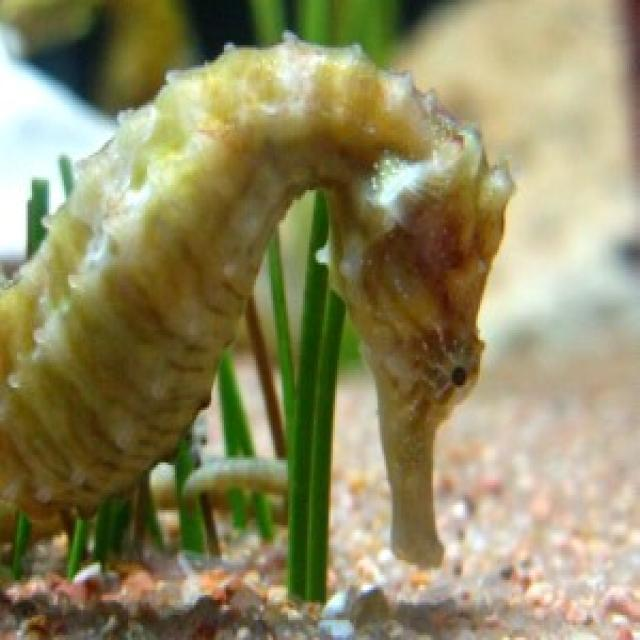Seahorse: (0, 30, 533, 640)
